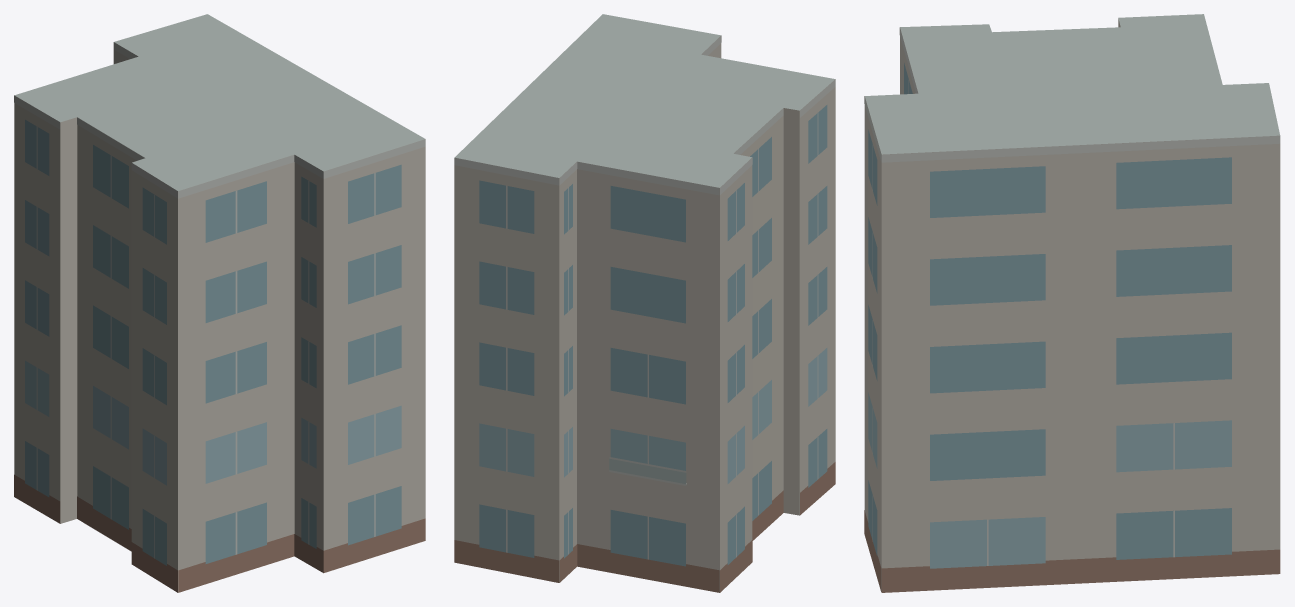
Rendered from survey-upis-32734999.glb.
3 renders of one model, left to right at view 1: azimuth 30°, elevation 25°; view 2: azimuth 150°, elevation 25°; view 3: azimuth 270°, elevation 25°, orthographic. The views are drawn at different scales.
Parts seen in each view (by area): view 1: survey-upis-32734999.tmp; view 2: survey-upis-32734999.tmp; view 3: survey-upis-32734999.tmp.
Part boxes in pixels (box(x1,y1,x2,y2)): survey-upis-32734999.tmp: box(14, 14, 425, 592); survey-upis-32734999.tmp: box(454, 14, 835, 592); survey-upis-32734999.tmp: box(864, 14, 1280, 592).
Size of the model in its own units: 9.01 by 13.1 by 11.27.
